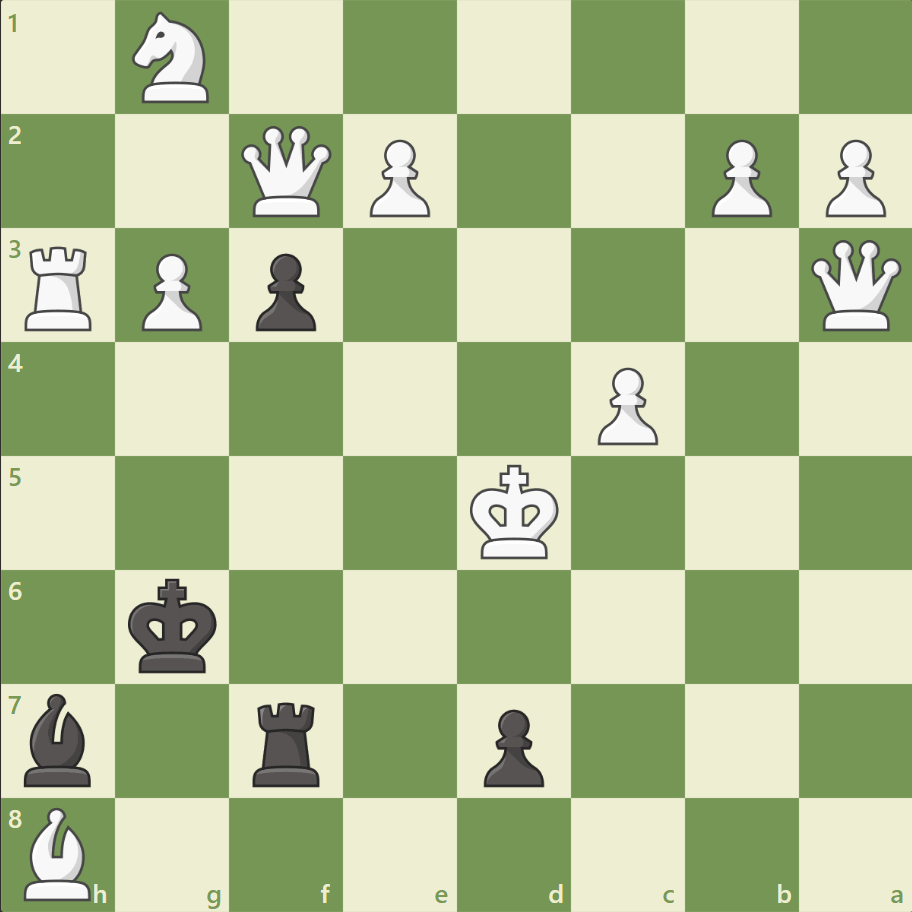B: (17, 801, 101, 904)
K: (465, 458, 565, 566)
N: (124, 7, 222, 110)
P: (133, 246, 208, 337), (701, 132, 776, 223), (588, 359, 662, 450), (815, 132, 889, 223), (361, 132, 435, 223)
Q: (237, 122, 336, 222), (805, 236, 904, 335)
R: (19, 239, 102, 336)
b: (17, 687, 101, 790)
k: (124, 571, 224, 679)
p: (474, 700, 549, 791), (247, 246, 322, 337)
r: (246, 693, 329, 790)
